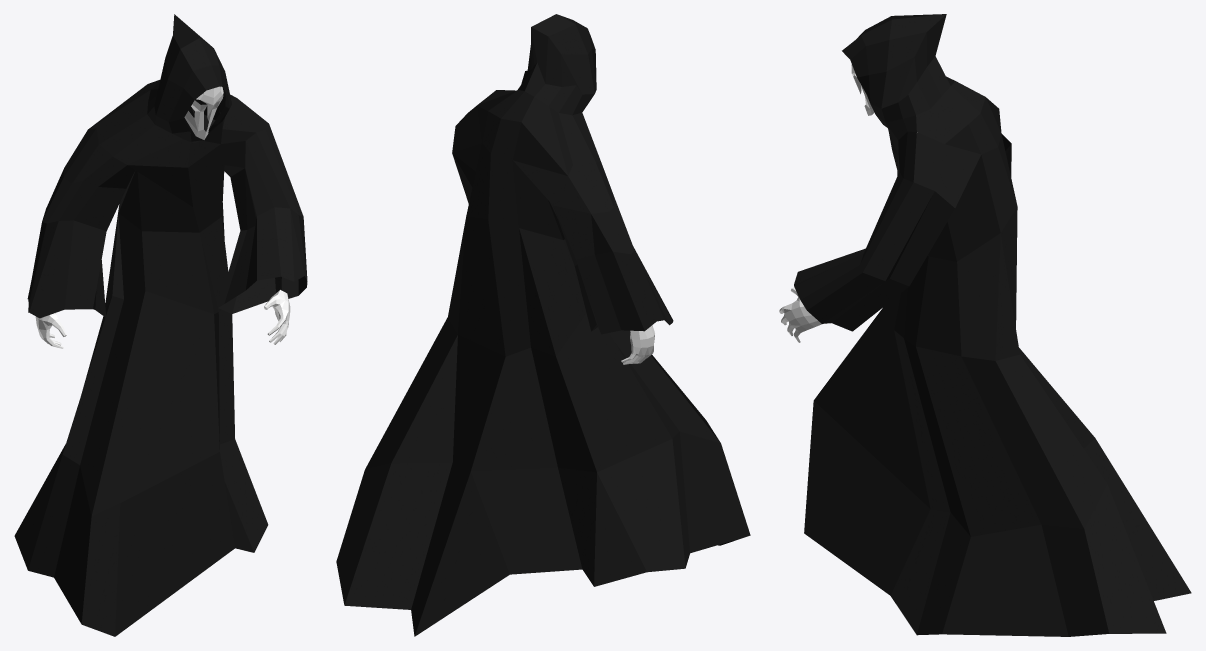
The model's file is ReaperWalk(22).obj.
3 views of the same model, side by side, from view 1: azimuth 30°, elevation 25°; view 2: azimuth 150°, elevation 25°; view 3: azimuth 270°, elevation 25° (orthographic). The views are drawn at different scales.
Visible parts, largest first — view 1: Plane003; view 2: Plane003; view 3: Plane003.
Boxes of the visible parts, bbox=[...] form: Plane003: bbox=[14, 14, 307, 636]; Plane003: bbox=[336, 14, 750, 636]; Plane003: bbox=[779, 14, 1191, 636].
Size of the model in its own units: 115 by 214 by 136.
